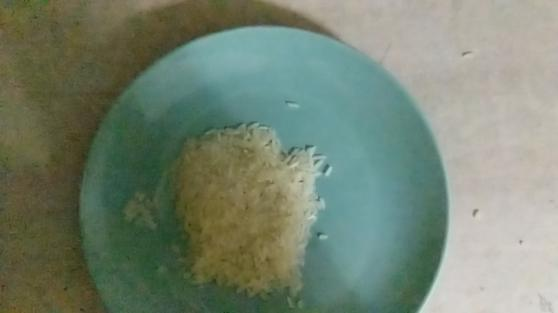rice: (126, 99, 341, 311)
